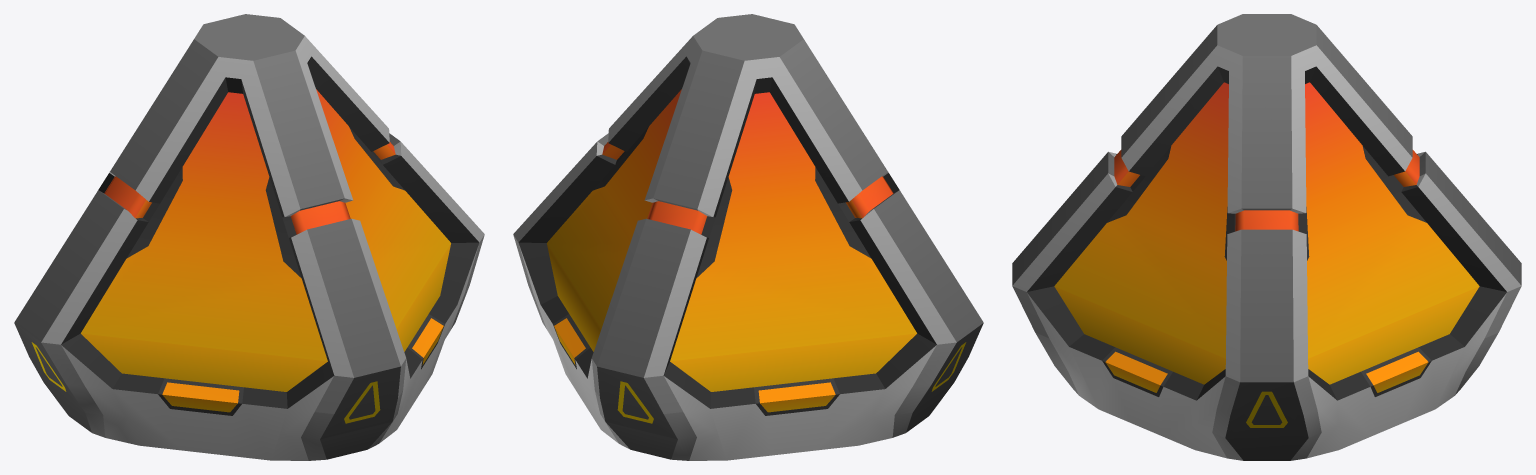
File: SciFi_Light_01.fbx
3 views of the same model, side by side, from view 1: azimuth 30°, elevation 25°; view 2: azimuth 150°, elevation 25°; view 3: azimuth 270°, elevation 25° (orthographic).
Parts seen in each view (by area): view 1: SciFi_Light_01; view 2: SciFi_Light_01; view 3: SciFi_Light_01.
Boxes of the visible parts, <box> form: SciFi_Light_01: <box>14,14,484,460</box>; SciFi_Light_01: <box>513,14,983,460</box>; SciFi_Light_01: <box>1012,14,1521,460</box>.
Bounding box in the file's own units: 146 × 109 × 146.
